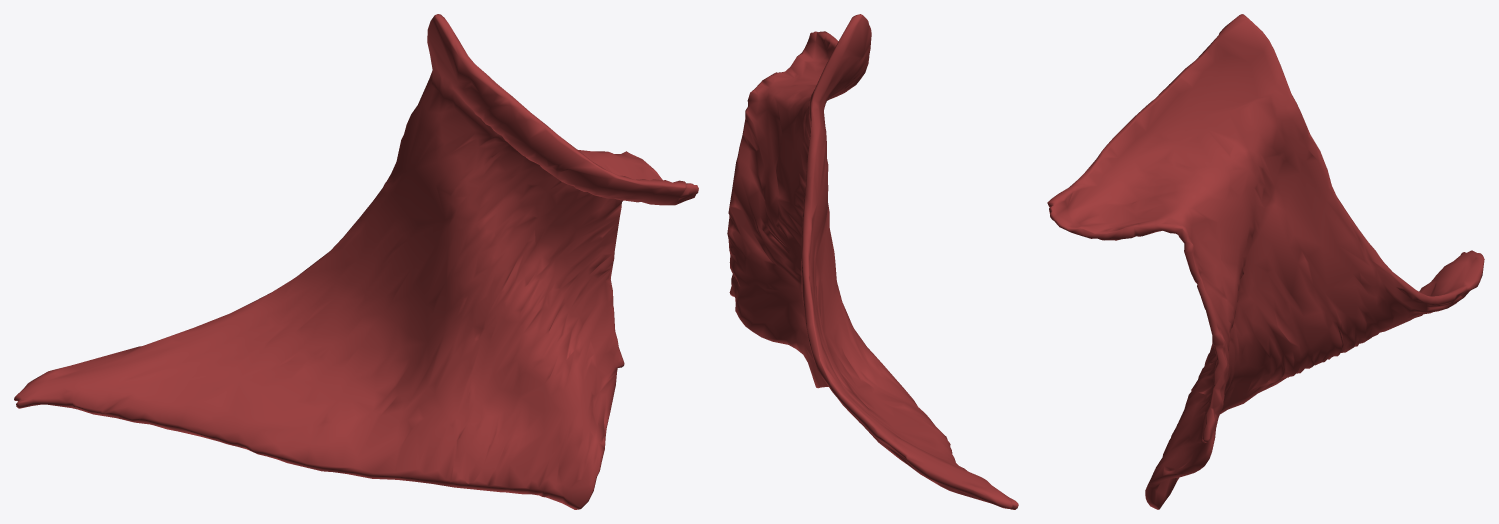
The model's file is platysma-r.glb.
The picture shows the model from 3 angles, left to right: view 1: azimuth 30°, elevation 25°; view 2: azimuth 150°, elevation 25°; view 3: azimuth 270°, elevation 25°; orthographic projection. The views are drawn at different scales.
Parts seen in each view (by area): view 1: Platysma.r; view 2: Platysma.r; view 3: Platysma.r.
Boxes of the visible parts, x1,y1,x2,y2 form: Platysma.r: [14, 14, 698, 509]; Platysma.r: [727, 14, 1018, 509]; Platysma.r: [1047, 14, 1484, 509].
Size of the model in its own units: 0.1439 by 0.1421 by 0.1245.
